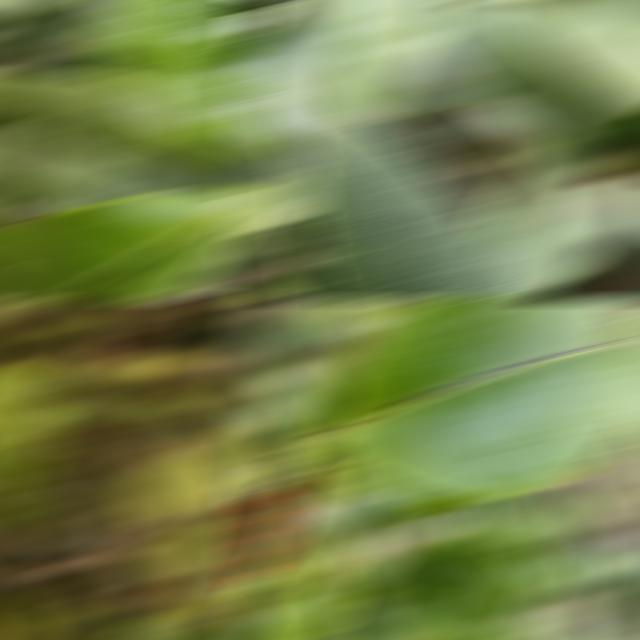Leaf: (297, 302, 640, 501), (270, 83, 551, 298), (0, 75, 260, 216), (90, 2, 260, 163), (0, 193, 260, 298), (479, 146, 640, 291), (426, 2, 591, 128), (361, 536, 554, 638), (288, 2, 451, 118), (472, 2, 640, 110), (238, 25, 322, 144), (0, 369, 61, 527), (238, 564, 351, 638), (195, 496, 260, 599), (159, 439, 251, 498), (562, 83, 640, 152), (238, 177, 311, 233), (40, 2, 116, 52), (106, 611, 209, 638), (575, 2, 640, 26), (0, 302, 56, 321), (0, 2, 68, 17)
